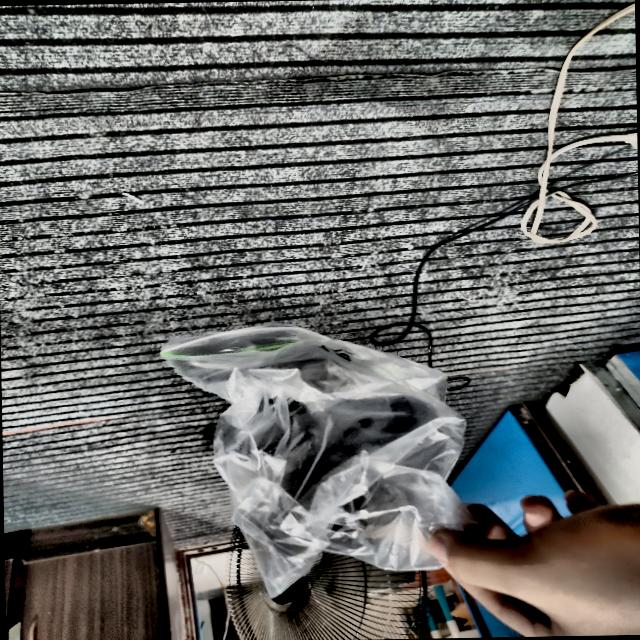plastic bag: (161, 327, 472, 596)
